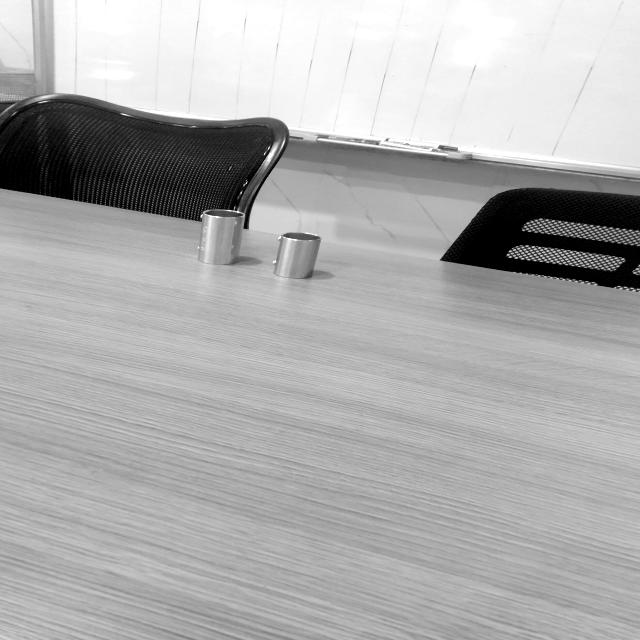Co_Lon: (195, 206, 245, 268)
Co_Nho: (272, 229, 322, 283)
